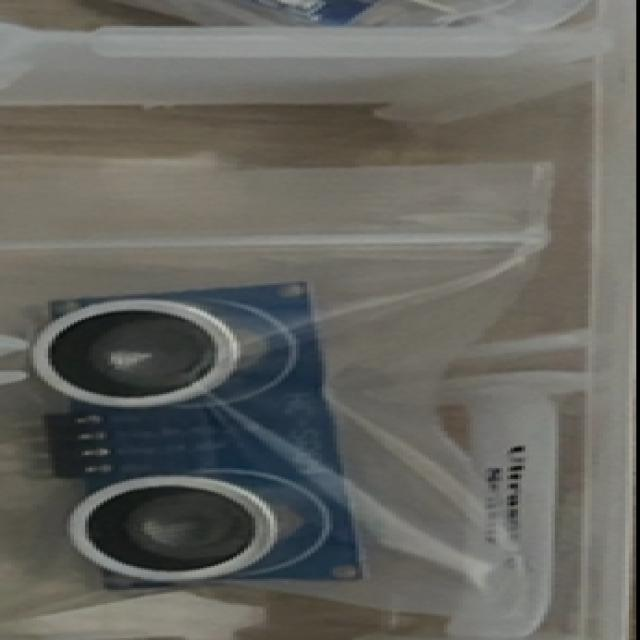Ultrasonic Sensor: (15, 274, 366, 597)
